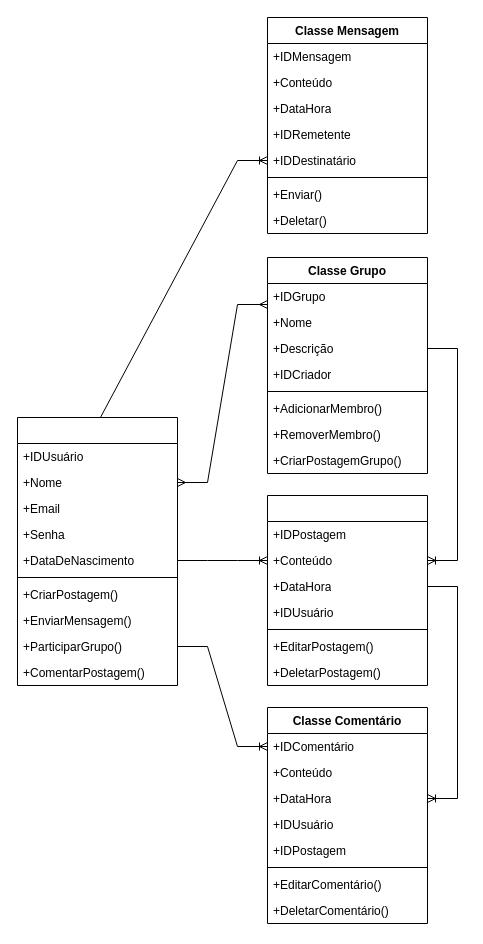
The diagram is 483 pixels wide and 944 high, and some of its shapes have lost their labels. Here are the shapes that lost their labels. From the top down, the box of each, then its label:
(16, 416, 178, 686): Classe Usuário
(266, 494, 428, 686): Classe Postagem
